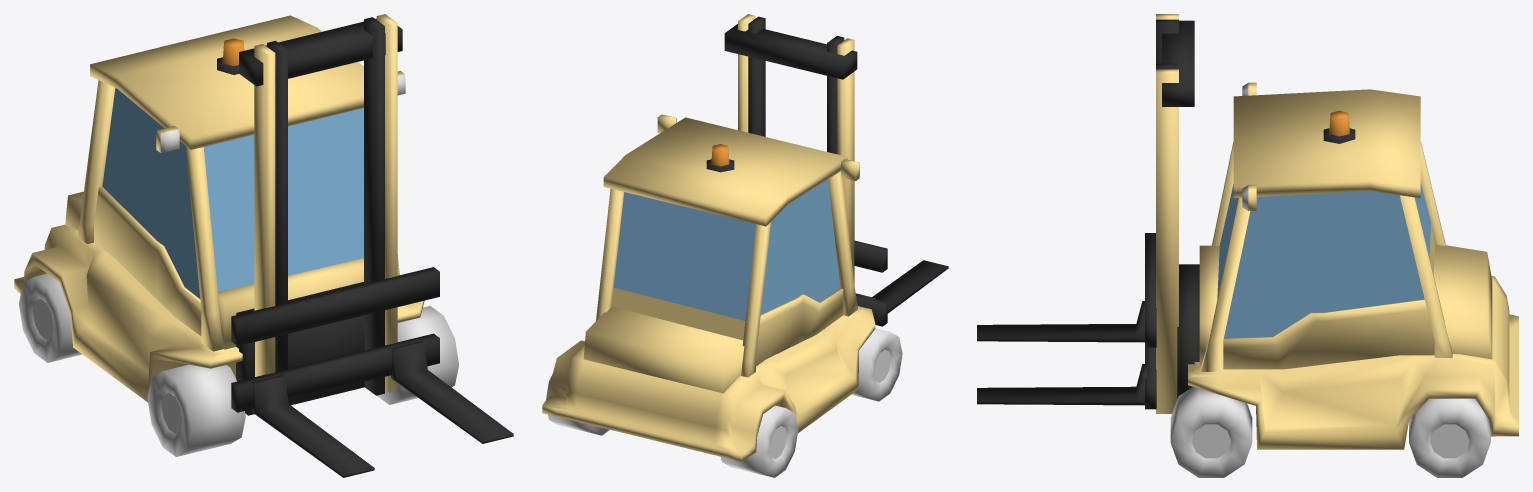
File: погрузчик лоу поли ВЕРСИЯ 2.fbx
3 views of the same model, side by side, from view 1: azimuth 30°, elevation 25°; view 2: azimuth 150°, elevation 25°; view 3: azimuth 270°, elevation 25° (orthographic). The views are drawn at different scales.
Visible parts, largest first — view 1: Cube, Cube.004, Cube.002, Cube.008, Cylinder.004, Cylinder.006, Cylinder, Cylinder.005, Cylinder.007, Cube.012; view 2: Cube, Cube.004, Cube.008, Cube.002, Cylinder.006, Cylinder.004, Cylinder.002; view 3: Cube, Cube.004, Cube.002, Cube.008, Cylinder, Cylinder.002, Cylinder.003, Cylinder.001.
Part boxes in pixels (<box>): Cube: <box>14,14,424,402</box>; Cube.004: <box>102,88,363,298</box>; Cube.002: <box>231,267,513,477</box>; Cube.008: <box>236,17,402,415</box>; Cylinder.004: <box>147,364,245,456</box>; Cylinder.006: <box>19,273,82,362</box>; Cylinder: <box>377,306,458,404</box>; Cylinder.005: <box>161,393,182,433</box>; Cylinder.007: <box>33,298,53,339</box>; Cube.012: <box>160,74,405,152</box>; Cube: <box>542,14,875,461</box>; Cube.004: <box>613,179,840,320</box>; Cube.008: <box>724,16,857,154</box>; Cube.002: <box>854,240,948,326</box>; Cylinder.006: <box>721,405,798,477</box>; Cylinder.004: <box>851,328,902,401</box>; Cylinder.002: <box>546,374,609,435</box>; Cube: <box>1156,14,1518,449</box>; Cube.004: <box>1217,183,1430,338</box>; Cube.002: <box>977,233,1156,409</box>; Cube.008: <box>1156,19,1199,398</box>; Cylinder: <box>1170,387,1252,477</box>; Cylinder.002: <box>1409,398,1490,477</box>; Cylinder.003: <box>1430,424,1469,458</box>; Cylinder.001: <box>1192,424,1231,458</box>.
Size of the model in its own units: 237 by 341 by 449.
